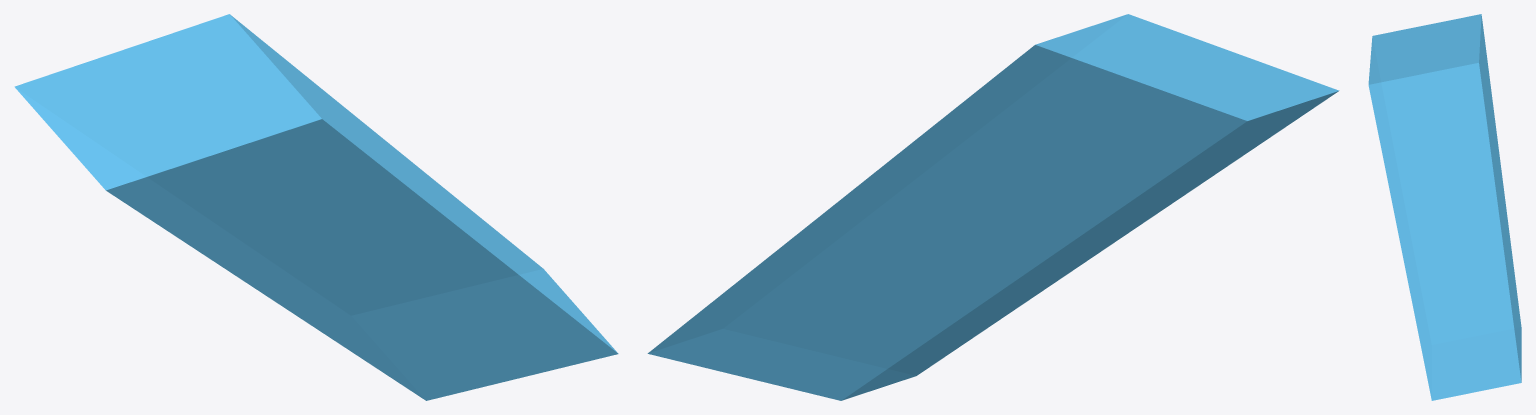
File: Event_420094457_HBrechit_14.fbx
3 views of the same model, side by side, from view 1: azimuth 30°, elevation 25°; view 2: azimuth 150°, elevation 25°; view 3: azimuth 270°, elevation 25° (orthographic). The views are drawn at different scales.
Visible parts, largest first — view 1: Model; view 2: Model; view 3: Model.
Boxes of the visible parts, left/top/right/bottom form: Model: left=14, top=14, right=618, bottom=400; Model: left=647, top=14, right=1339, bottom=400; Model: left=1368, top=14, right=1521, bottom=400.
Bounding box in the file's own units: 1.7 × 1.14 × 0.6692.
